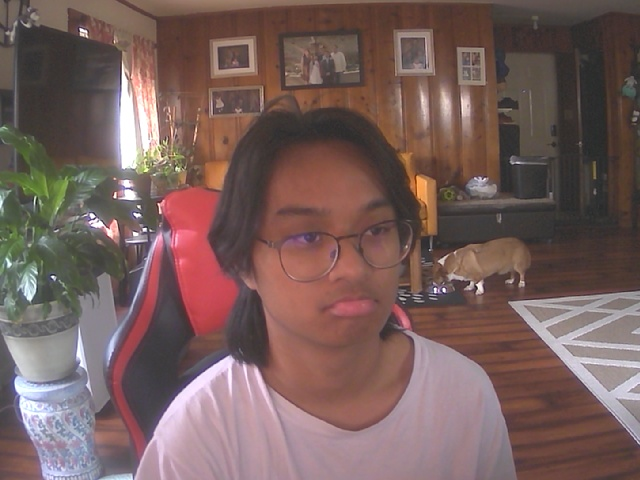sad: (230, 130, 423, 354)
